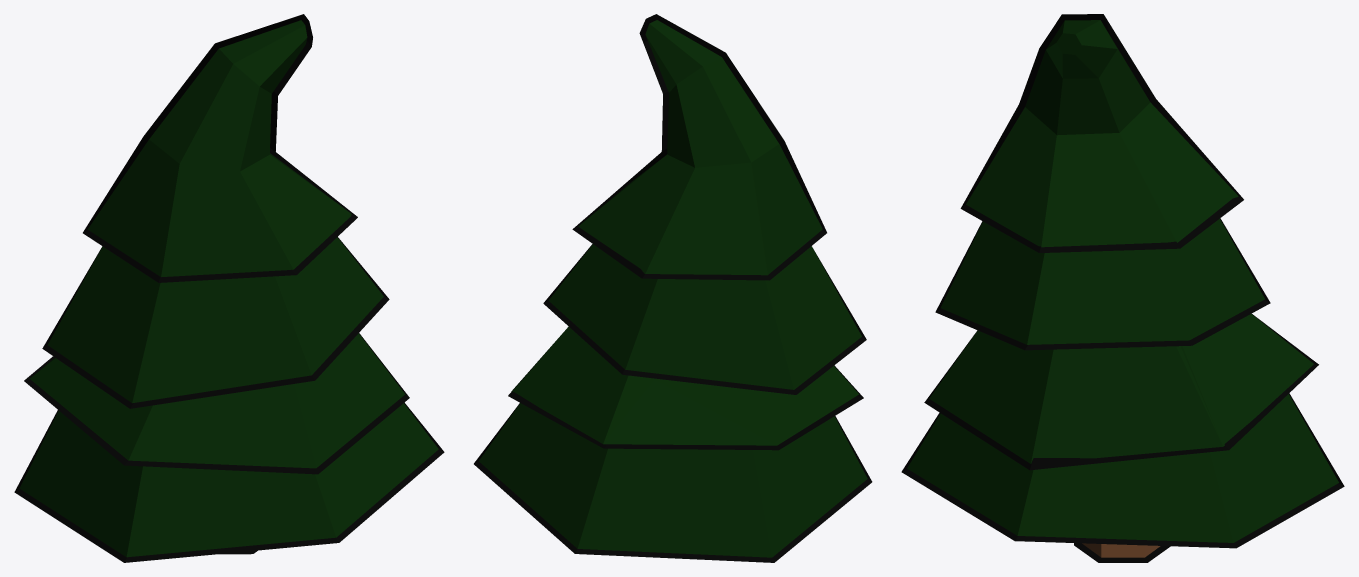
Rendered from tree_3.fbx.
The picture shows the model from 3 angles, left to right: view 1: azimuth 30°, elevation 25°; view 2: azimuth 150°, elevation 25°; view 3: azimuth 270°, elevation 25°; orthographic projection. The views are drawn at different scales.
Parts seen in each view (by area): view 1: tree_3, tree_3_outliner; view 2: tree_3, tree_3_outliner; view 3: tree_3, tree_3_outliner.
Boxes of the visible parts, left/top/right/bottom form: tree_3: left=19, top=20, right=438, bottom=557; tree_3_outliner: left=14, top=14, right=444, bottom=562; tree_3: left=479, top=20, right=867, bottom=557; tree_3_outliner: left=474, top=14, right=872, bottom=562; tree_3: left=907, top=20, right=1338, bottom=557; tree_3_outliner: left=901, top=14, right=1344, bottom=562.
Bounding box in the file's own units: 81.36 × 126 × 93.7.
